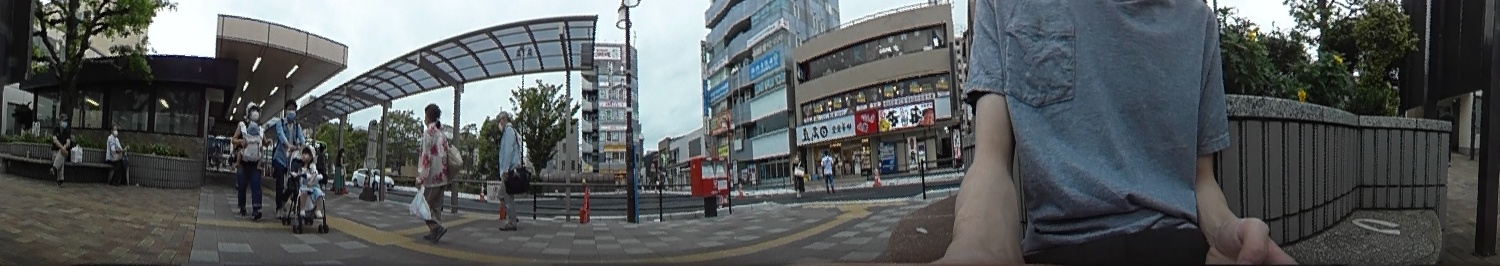difficult_person: (790, 154, 806, 197), (333, 147, 345, 196), (822, 149, 835, 194), (315, 143, 328, 180)
person: (418, 101, 452, 244), (233, 99, 267, 220), (491, 108, 523, 232), (273, 98, 305, 212), (291, 143, 324, 224), (51, 112, 73, 185), (104, 122, 127, 186)
